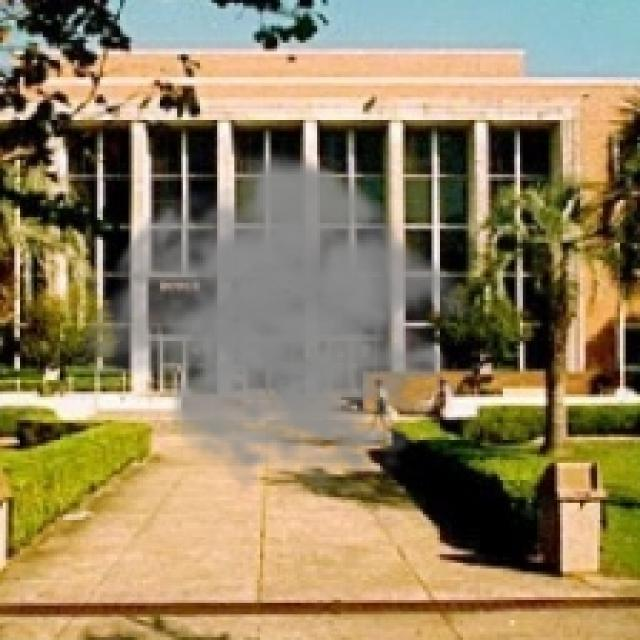Smoke: (74, 148, 486, 492)
